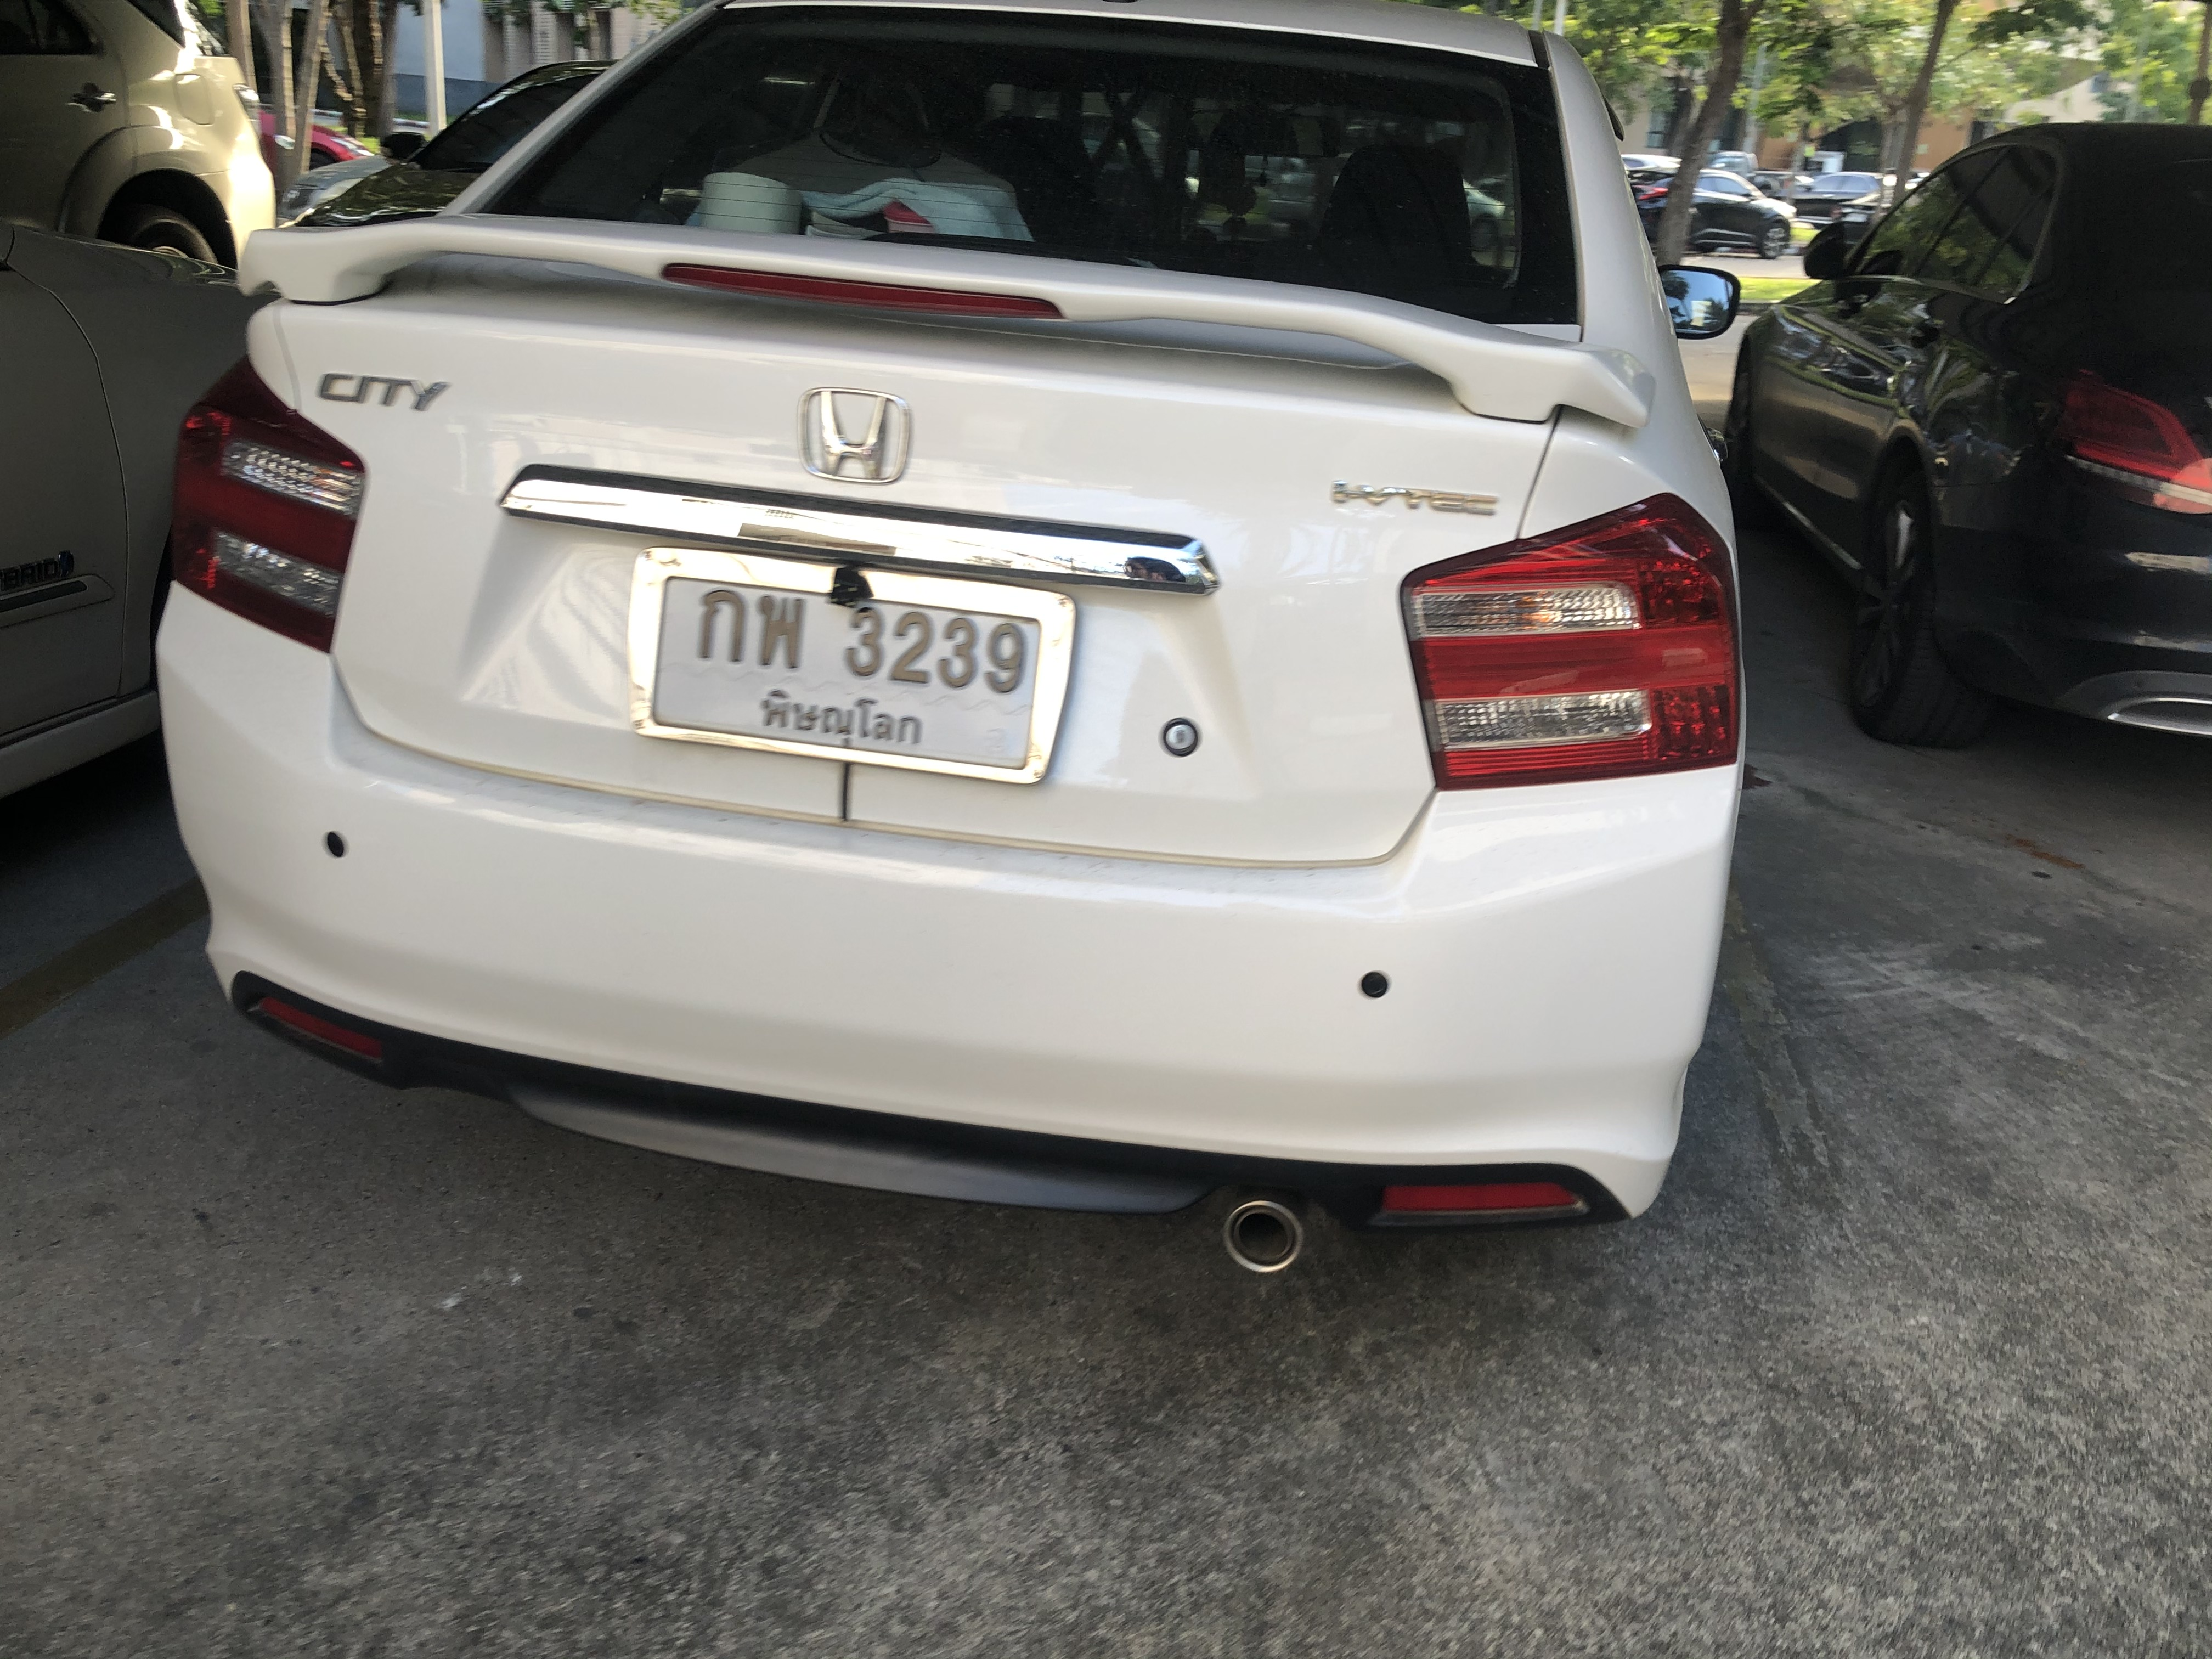in: (651, 573, 1038, 770)
out: (617, 538, 1075, 793)
